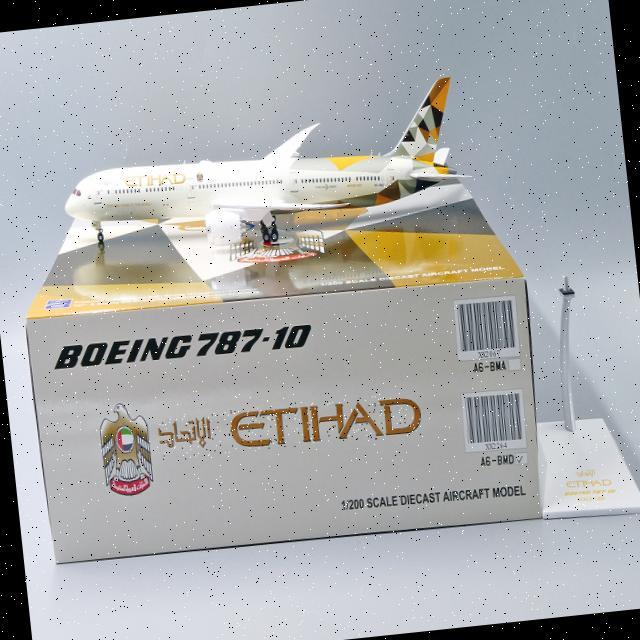Etihad Airways: (157, 389, 423, 461), (124, 170, 185, 189)
